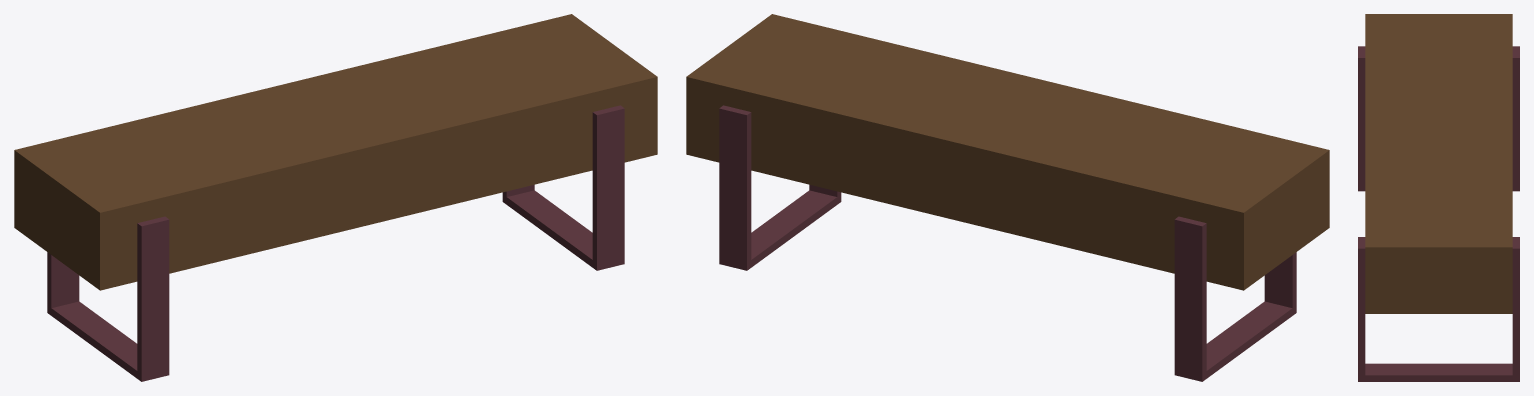
Rendered from bench-modern.fbx.
The picture shows the model from 3 angles, left to right: view 1: azimuth 30°, elevation 25°; view 2: azimuth 150°, elevation 25°; view 3: azimuth 270°, elevation 25°; orthographic projection. The views are drawn at different scales.
Parts seen in each view (by area): view 1: bench-modern; view 2: bench-modern; view 3: bench-modern.
Part boxes in pixels (x1,y1,x2,y2): bench-modern: [14, 14, 657, 381]; bench-modern: [686, 14, 1329, 381]; bench-modern: [1358, 14, 1519, 381].
Size of the model in its own units: 1.5 by 0.45 by 0.44.
